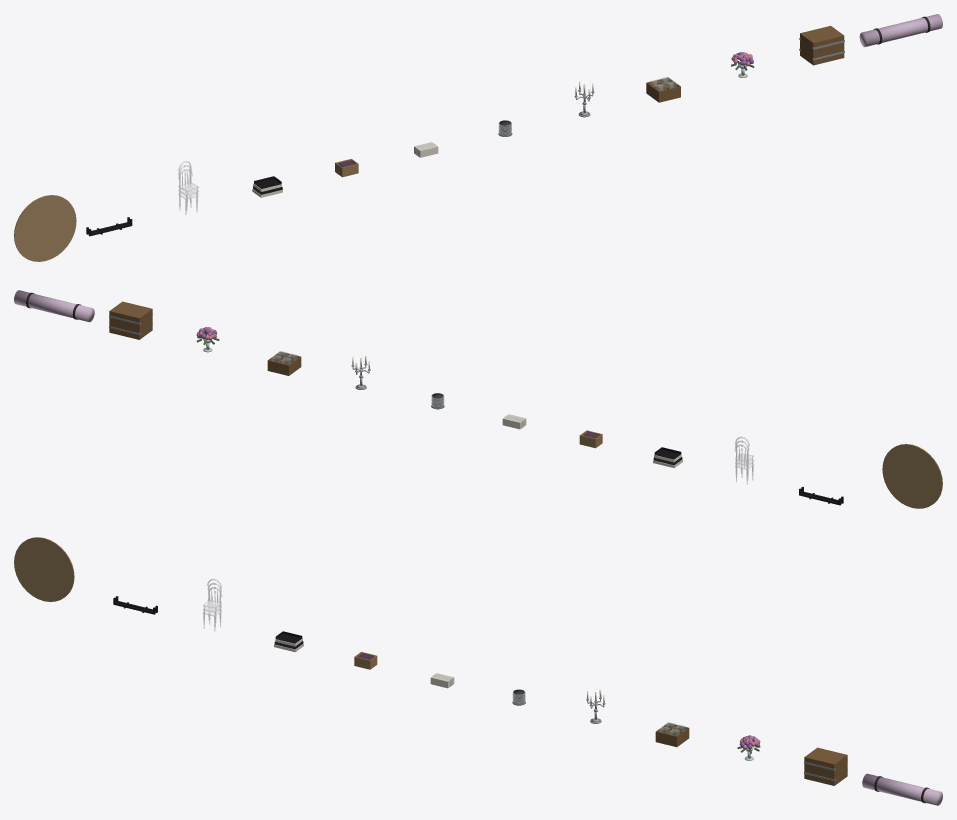
Rendered from SM_BaloItemler.fbx.
3 renders of one model, top to bottom at view 1: azimuth 30°, elevation 25°; view 2: azimuth 150°, elevation 25°; view 3: azimuth 330°, elevation 25°, orthographic. The views are drawn at different scales.
Visible parts, largest first — view 1: CI_01_MasaTablasi, CI_11_AvizeKasasi, CI_12_VinilRulo, CI_09_FanusKasasi; view 2: CI_01_MasaTablasi, CI_11_AvizeKasasi, CI_12_VinilRulo, CI_09_FanusKasasi, CI_04_OrtuTopu; view 3: CI_01_MasaTablasi, CI_11_AvizeKasasi, CI_12_VinilRulo, CI_09_FanusKasasi.
Boxes of the visible parts, x1,y1,x2,y2 form: CI_01_MasaTablasi: (14,195,76,261); CI_11_AvizeKasasi: (799,25,844,65); CI_12_VinilRulo: (859,14,942,47); CI_09_FanusKasasi: (646,77,680,102); CI_01_MasaTablasi: (882,444,942,508); CI_11_AvizeKasasi: (109,301,152,339); CI_12_VinilRulo: (14,290,94,322); CI_09_FanusKasasi: (267,351,301,375); CI_04_OrtuTopu: (653,447,682,468); CI_01_MasaTablasi: (14,537,74,601); CI_11_AvizeKasasi: (804,747,847,785); CI_12_VinilRulo: (862,773,942,805); CI_09_FanusKasasi: (655,722,689,747).
Size of the model in its own units: 2730 by 182 by 113.
